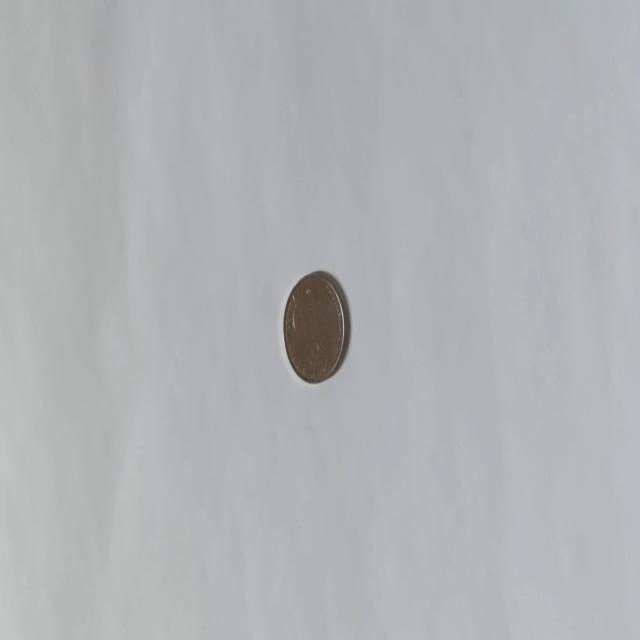seribu rupiah koin: (282, 268, 346, 385)
